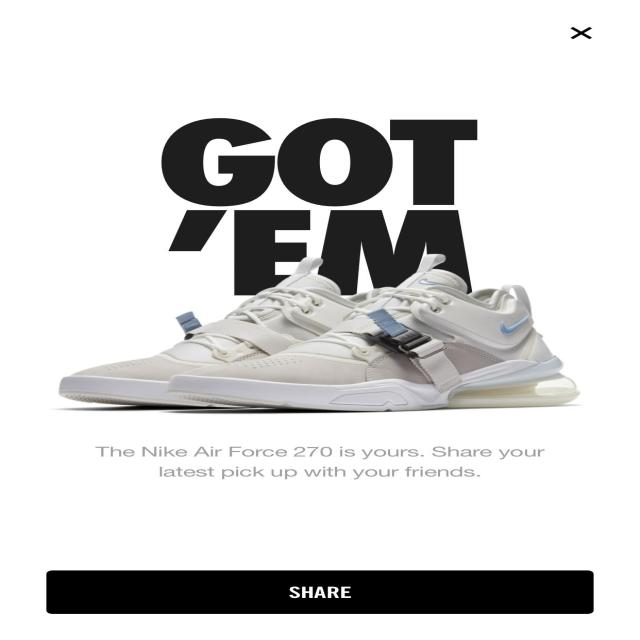shoe: (167, 265, 587, 415), (45, 260, 346, 414)
